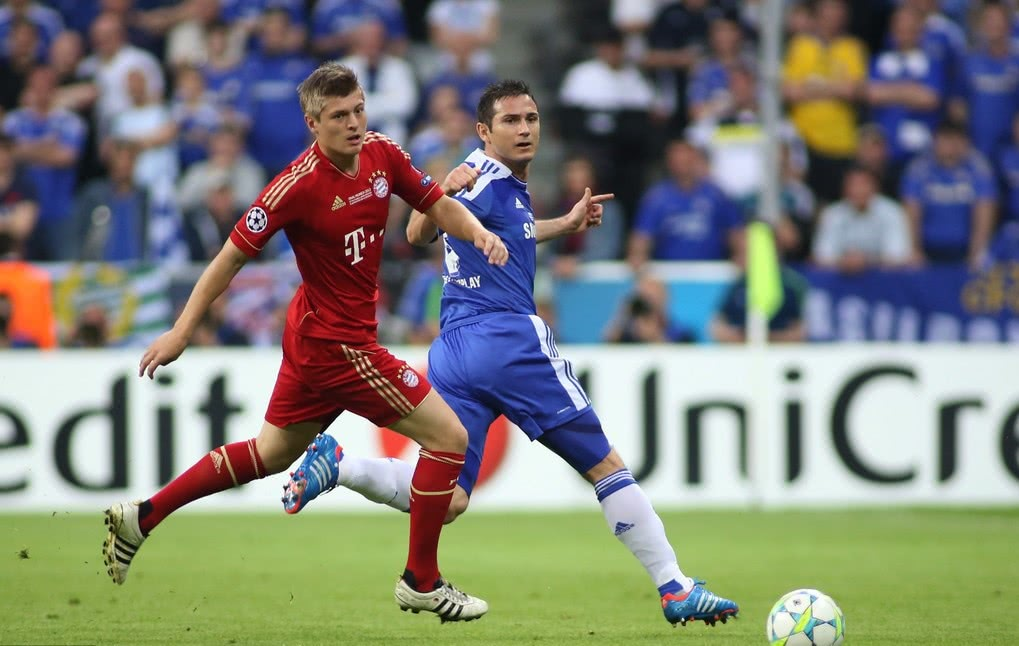ball: (767, 589, 846, 646)
